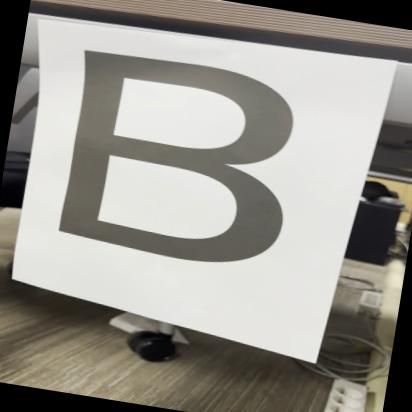seat: (34, 40, 315, 287)
